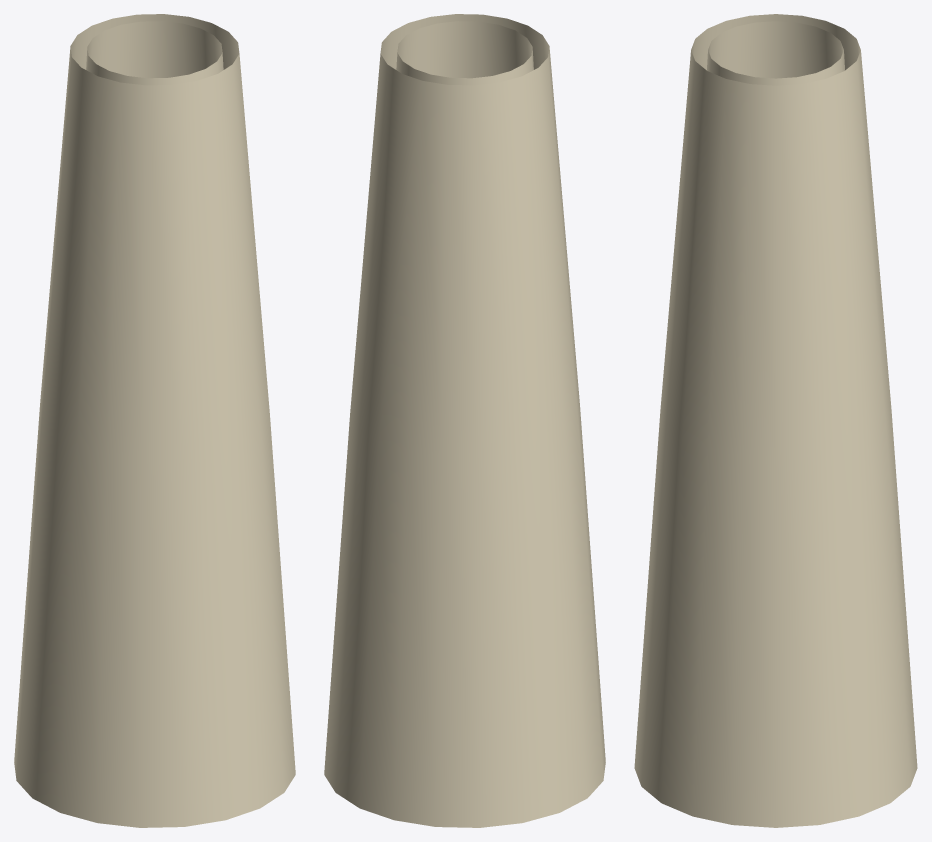
The model's file is LightShaft.fbx.
3 renders of one model, left to right at view 1: azimuth 30°, elevation 25°; view 2: azimuth 150°, elevation 25°; view 3: azimuth 270°, elevation 25°, orthographic.
Visible parts, largest first — view 1: Shaft; view 2: Shaft; view 3: Shaft.
Boxes of the visible parts, x1,y1,x2,y2 form: Shaft: (14,14,295,827); Shaft: (324,14,605,827); Shaft: (634,14,917,827).
Size of the model in its own units: 10 by 28 by 10.
